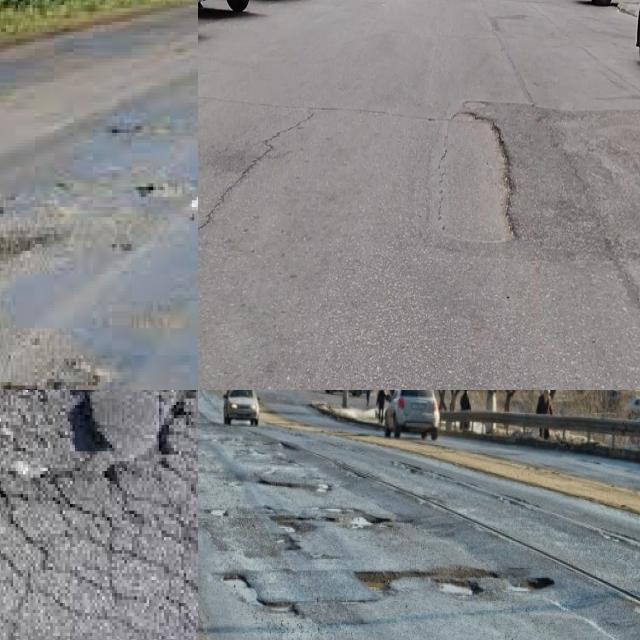Pothole: (436, 107, 517, 245), (223, 575, 297, 615), (338, 508, 389, 529), (356, 572, 396, 590), (442, 578, 483, 595), (273, 517, 303, 532), (524, 577, 553, 592), (205, 508, 227, 517)
